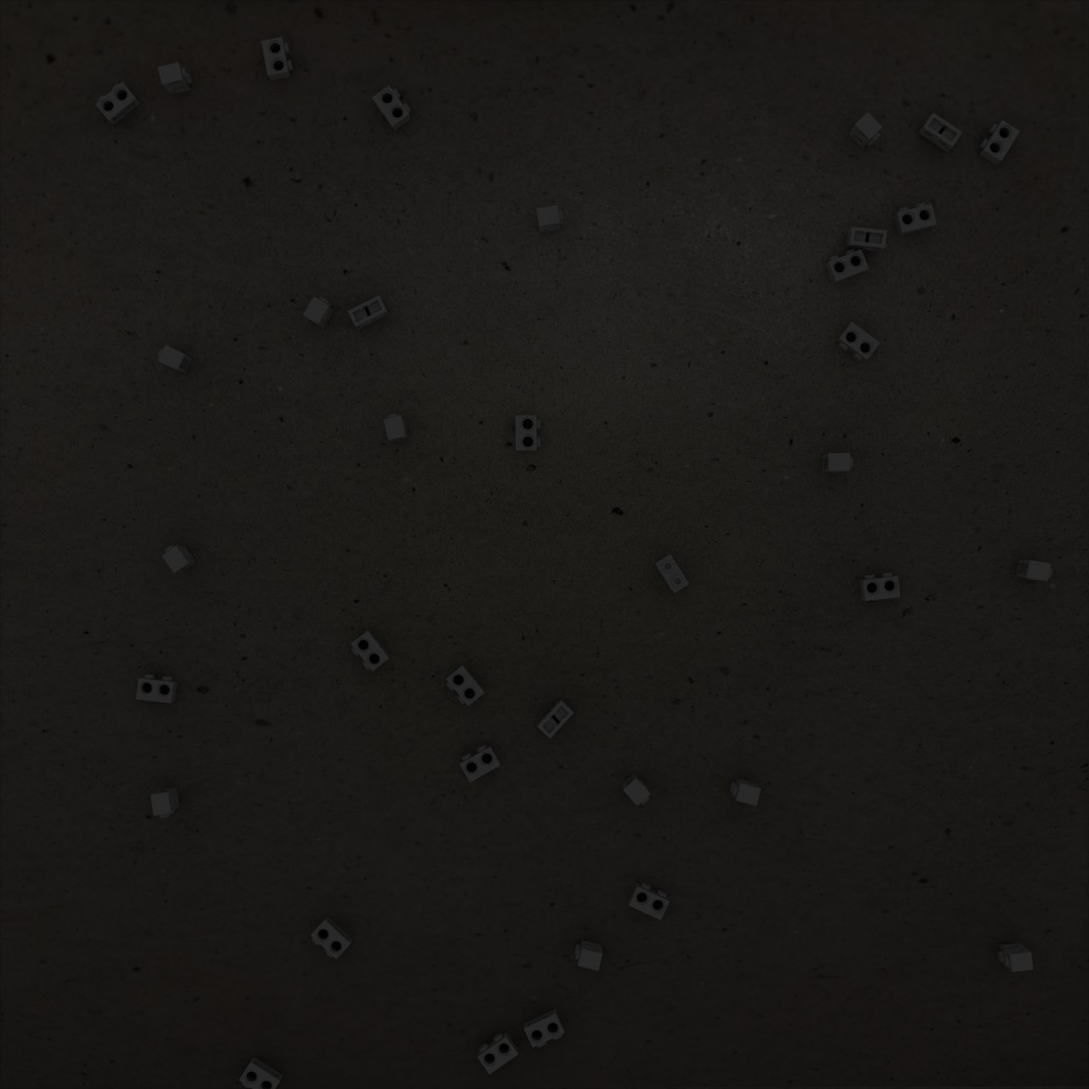lego: (95, 82, 140, 125), (310, 916, 353, 959), (477, 1031, 519, 1075), (979, 120, 1020, 165), (918, 112, 963, 152), (372, 85, 411, 131), (836, 322, 880, 362), (524, 1008, 565, 1048), (351, 630, 391, 671), (459, 744, 501, 783), (628, 882, 670, 921), (446, 664, 485, 706), (825, 248, 869, 285), (537, 699, 574, 739), (347, 295, 389, 330), (239, 1056, 283, 1089), (893, 203, 937, 236), (261, 37, 293, 81), (654, 554, 689, 593), (848, 112, 883, 149), (136, 674, 178, 703), (859, 573, 900, 601), (158, 62, 192, 95), (846, 226, 887, 252), (303, 296, 334, 329), (998, 943, 1033, 972), (158, 345, 193, 374), (621, 773, 651, 806), (162, 545, 197, 573), (515, 415, 541, 452), (150, 786, 180, 818), (574, 939, 603, 971), (730, 778, 761, 806), (383, 413, 409, 443), (536, 205, 563, 233), (1016, 560, 1052, 581), (822, 453, 853, 473)
